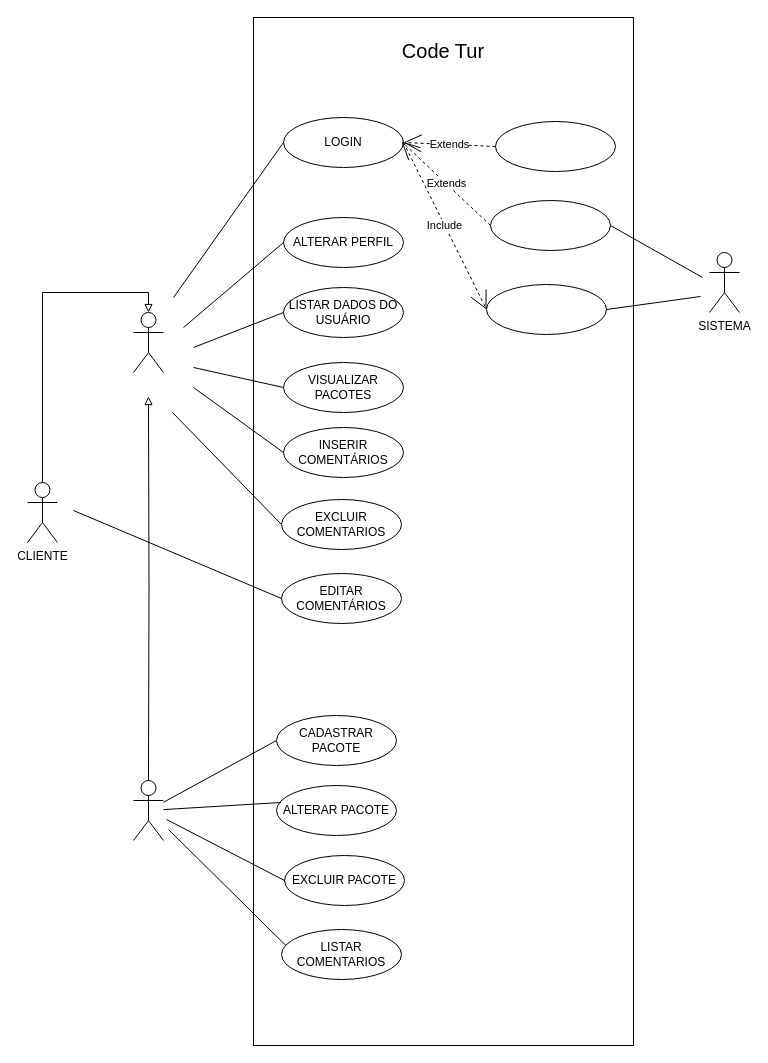
Image size: 768x1063. Some labels were removed from this diagram. The box of each missing label's shape, as (x1, y1, x2, y2) in pixels:
ADM: (132, 780, 164, 840)
CRIAR CONTA: (494, 120, 616, 172)
RECUPERAR SENHA: (490, 200, 610, 250)
USUÁRIO: (132, 312, 164, 372)
VALIDAR ACESSO: (486, 284, 606, 334)
